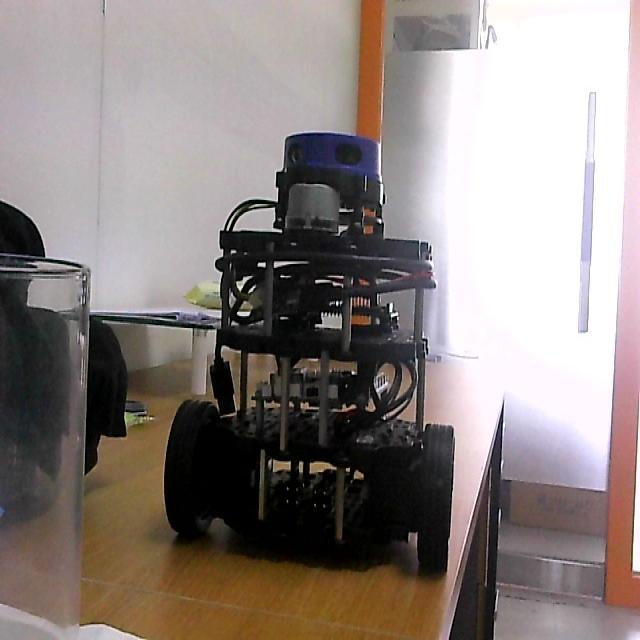turtle: (163, 131, 455, 582)
